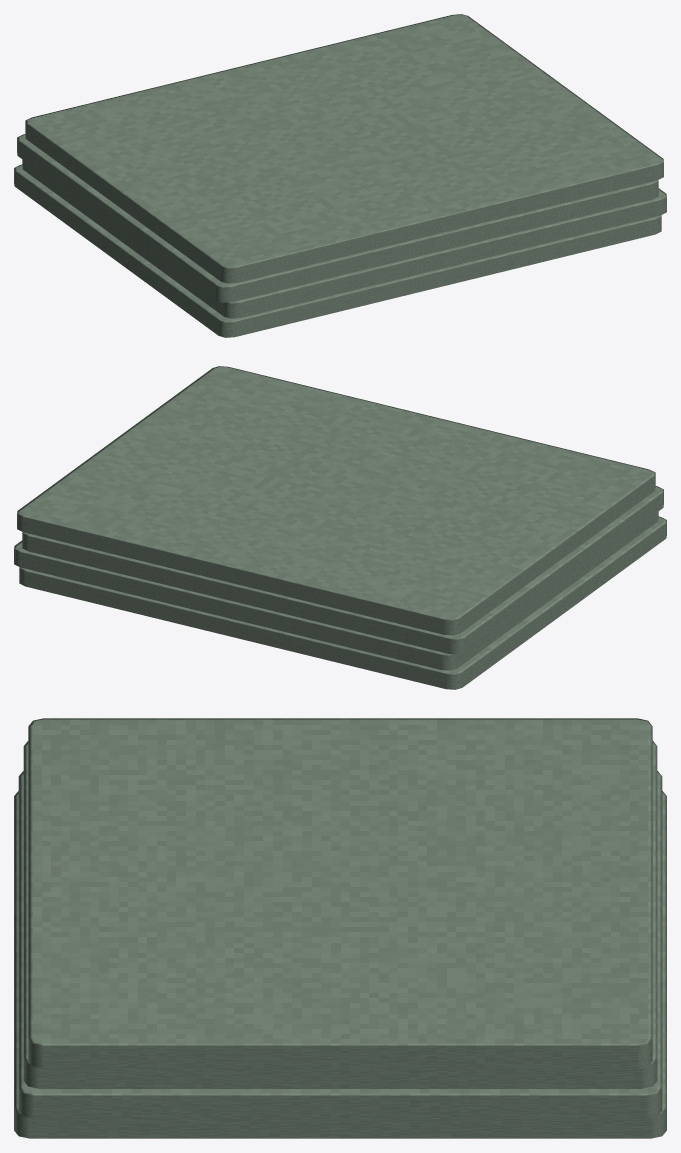
The model's file is apron.glb.
3 renders of one model, top to bottom at view 1: azimuth 30°, elevation 25°; view 2: azimuth 150°, elevation 25°; view 3: azimuth 270°, elevation 25°, orthographic. The views are drawn at different scales.
Visible parts, largest first — view 1: fold (×4); view 2: fold (×4); view 3: fold (×4).
Part boxes in pixels (x1,y1,x2,y2): fold (×4): (14, 14, 666, 337); fold (×4): (14, 366, 666, 689); fold (×4): (14, 718, 666, 1138).
Bounding box in the file's own units: 0.394 × 0.0545 × 0.3264.
1 material, 1 textured.
